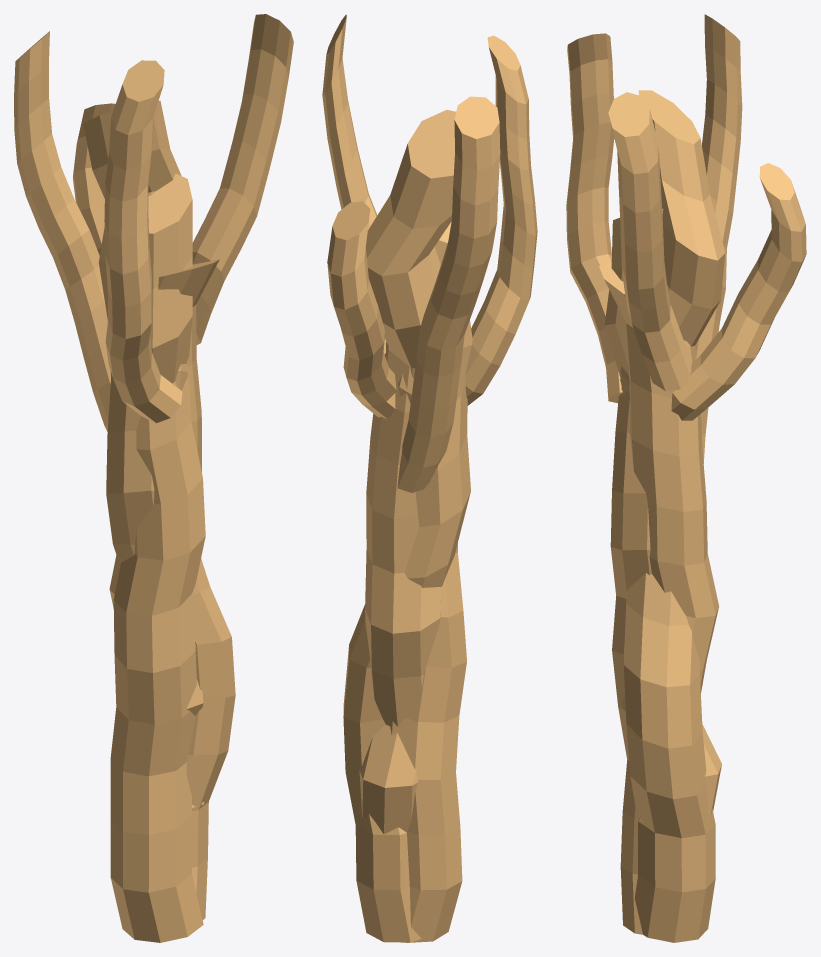
3 renders of one model, left to right at view 1: azimuth 30°, elevation 25°; view 2: azimuth 150°, elevation 25°; view 3: azimuth 270°, elevation 25°, orthographic. The views are drawn at different scales.
Visible parts, largest first — view 1: group_1005436123, group_376788340, group_1346812415, group_246171127, group_912754331, group_2046927596, group_846608841; view 2: group_376788340, group_2046927596, group_246171127, group_1005436123, group_1346812415, group_846608841, group_912754331; view 3: group_376788340, group_2046927596, group_912754331, group_1346812415, group_846608841, group_1005436123, group_246171127.
Part boxes in pixels (x1=…): group_1005436123: x1=110, y1=173, x2=205, y2=942; group_376788340: x1=83, y1=100, x2=235, y2=919; group_1346812415: x1=104, y1=60, x2=182, y2=423; group_246171127: x1=14, y1=31, x2=110, y2=431; group_912754331: x1=192, y1=14, x2=293, y2=344; group_2046927596: x1=109, y1=259, x2=219, y2=807; group_846608841: x1=72, y1=103, x2=115, y2=255; group_376788340: x1=343, y1=109, x2=470, y2=942; group_2046927596: x1=359, y1=342, x2=441, y2=834; group_246171127: x1=397, y1=96, x2=500, y2=492; group_1005436123: x1=390, y1=221, x2=472, y2=942; group_1346812415: x1=465, y1=35, x2=537, y2=405; group_846608841: x1=327, y1=201, x2=396, y2=419; group_912754331: x1=322, y1=14, x2=386, y2=354; group_376788340: x1=620, y1=90, x2=725, y2=942; group_2046927596: x1=599, y1=262, x2=721, y2=822; group_912754331: x1=608, y1=92, x2=691, y2=391; group_1346812415: x1=566, y1=33, x2=622, y2=403; group_846608841: x1=671, y1=163, x2=806, y2=420; group_1005436123: x1=604, y1=208, x2=695, y2=934; group_246171127: x1=695, y1=14, x2=742, y2=463.
Bounding box in the file's own units: 43.49 × 169 × 41.9.
